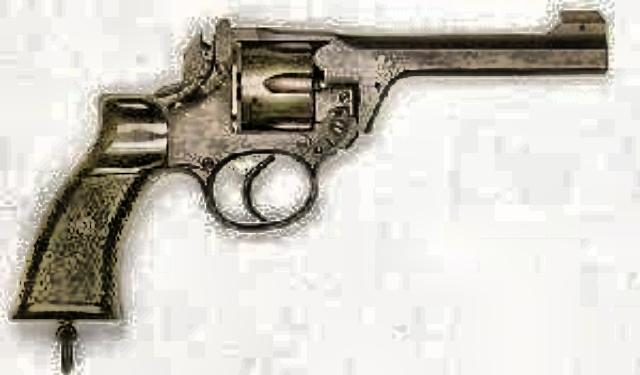pistol: (5, 6, 608, 318)
